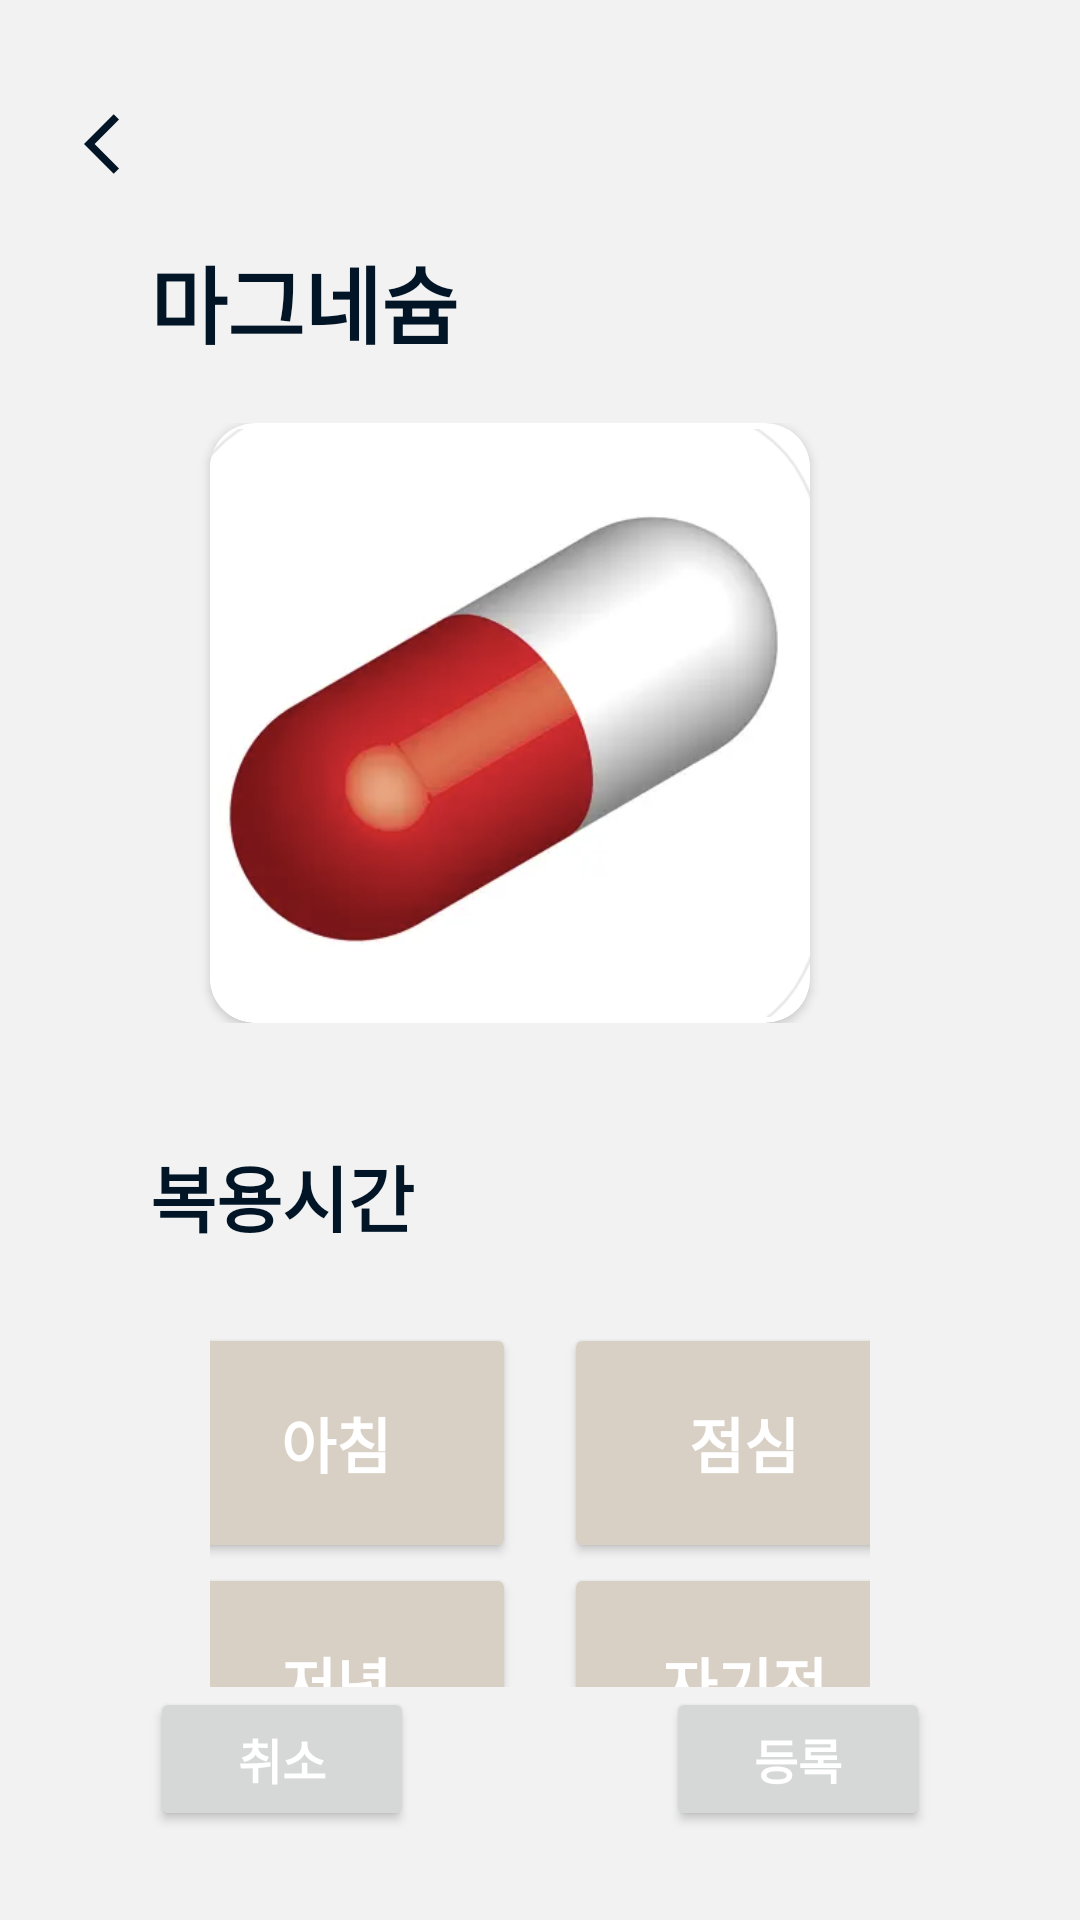

Locate icon controls on the screen. Image size 1080x1920, boxes as (x1, y1, x2, y2).
arrow back: (84, 114, 119, 174)
